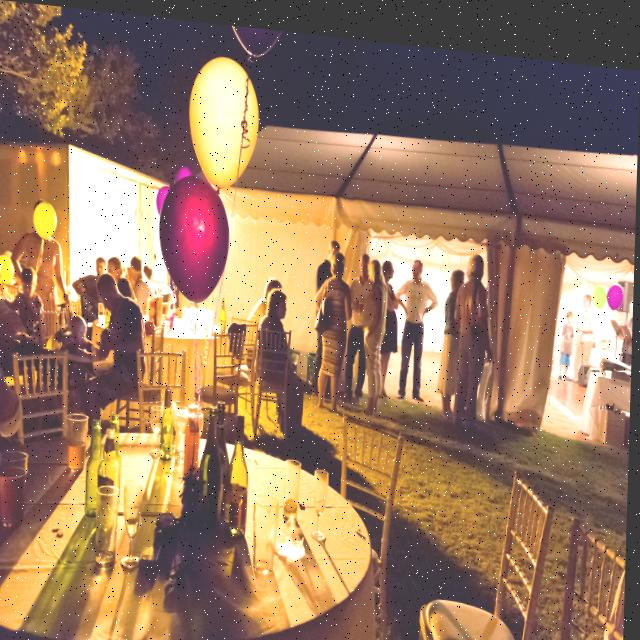balloon: (156, 171, 233, 303), (189, 48, 262, 178), (230, 20, 280, 52), (34, 198, 58, 238), (593, 268, 608, 295), (610, 271, 625, 295)
